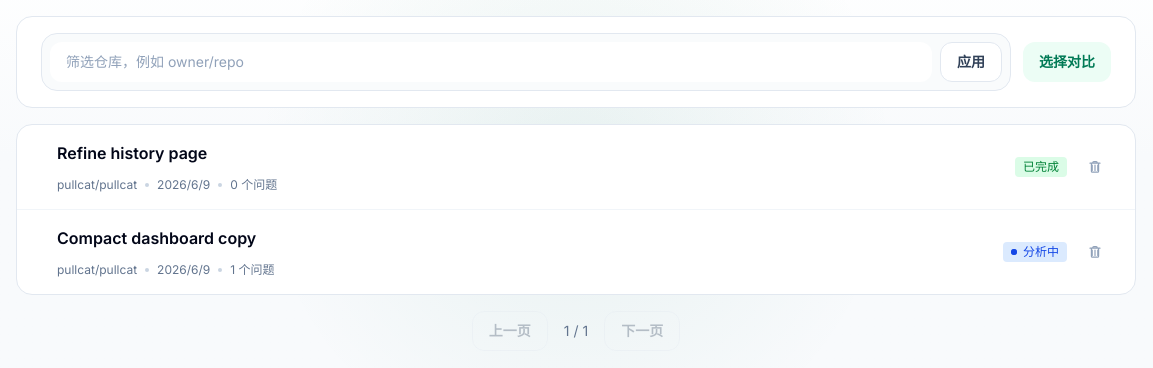
Test case: HistoryPage › renders review rows and compare controls
This screenshot has width=1153, height=368.
Expected: the link "Refine history page" is shown, [57, 143, 207, 163]
Expected: the link "Compact dashboard copy" is shown, [57, 228, 256, 248]
Click the button "选择对比". click: click(1067, 62)
box: [1023, 42, 1111, 82]
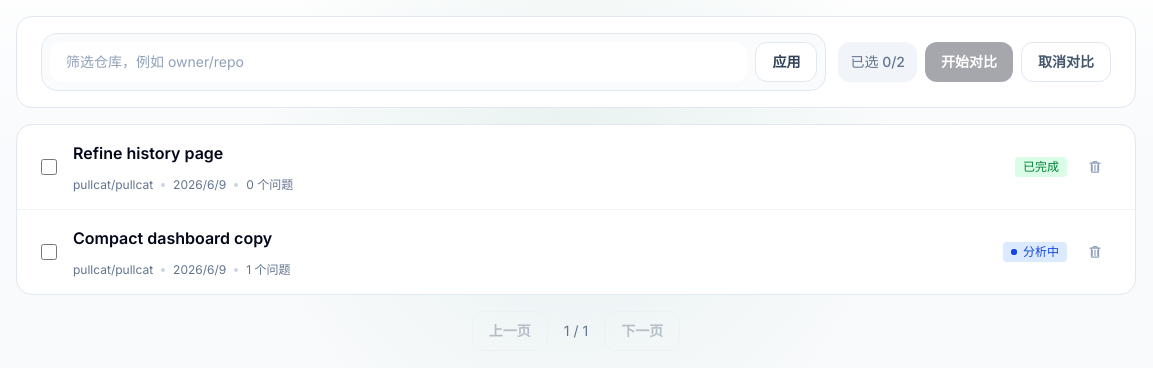
Expected: the text "已选 0/2" is shown, [838, 42, 917, 82]
Expected: the button "开始对比" is disabled, [925, 42, 1013, 82]
